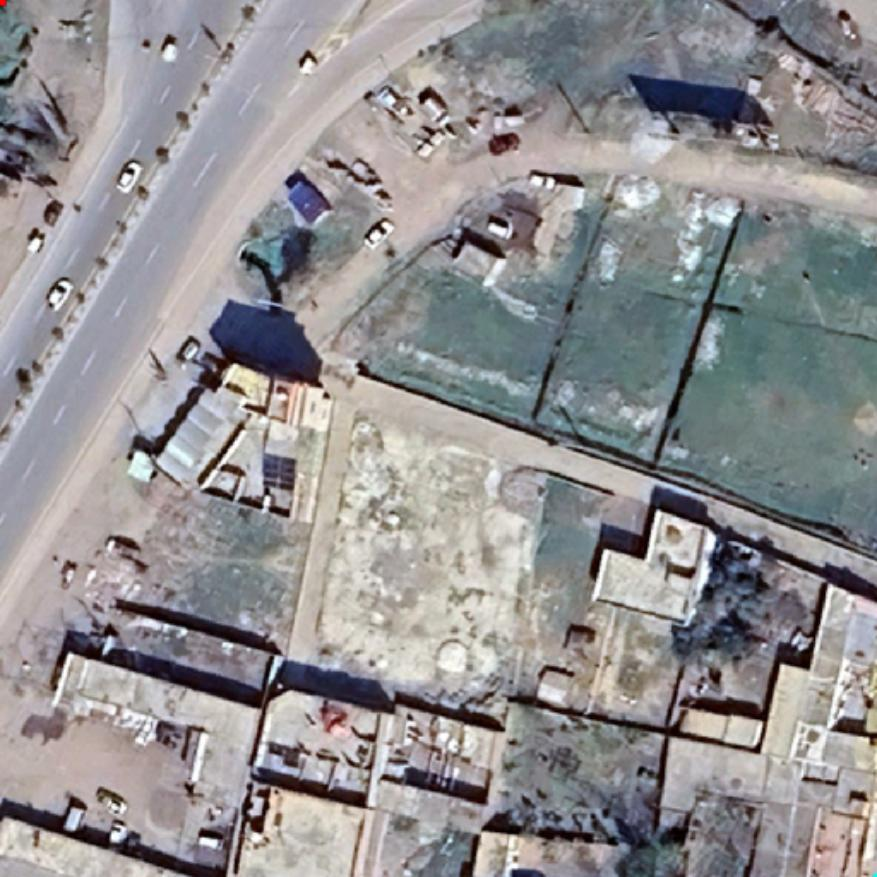Solarpanel: (258, 448, 300, 493)
